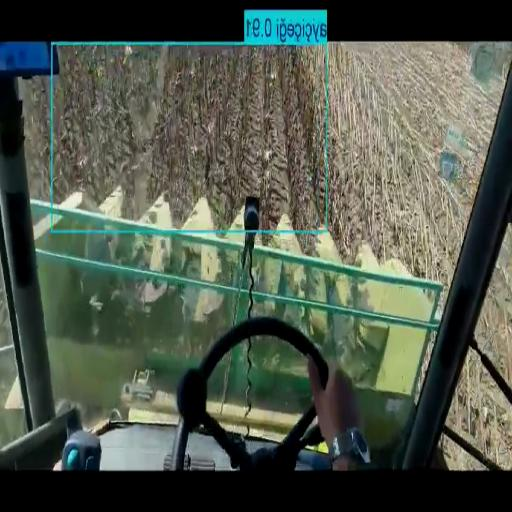ayc: (54, 45, 325, 227)
